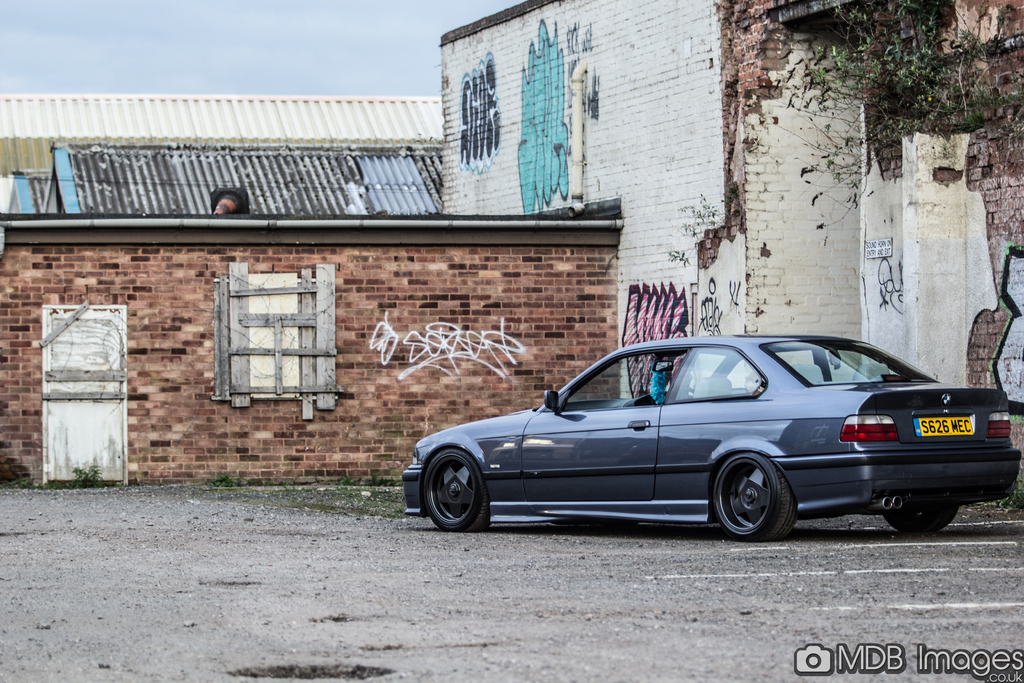Car: (378, 330, 1015, 547)
